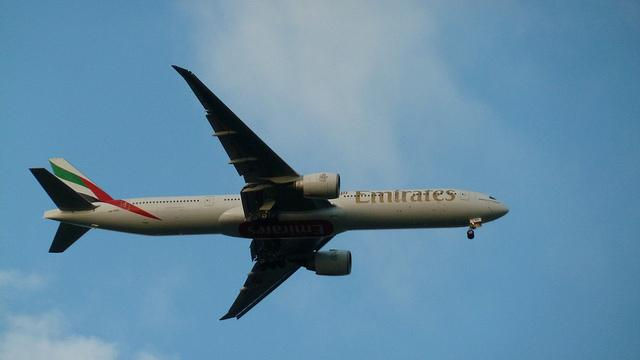airplane: (26, 64, 510, 323)
